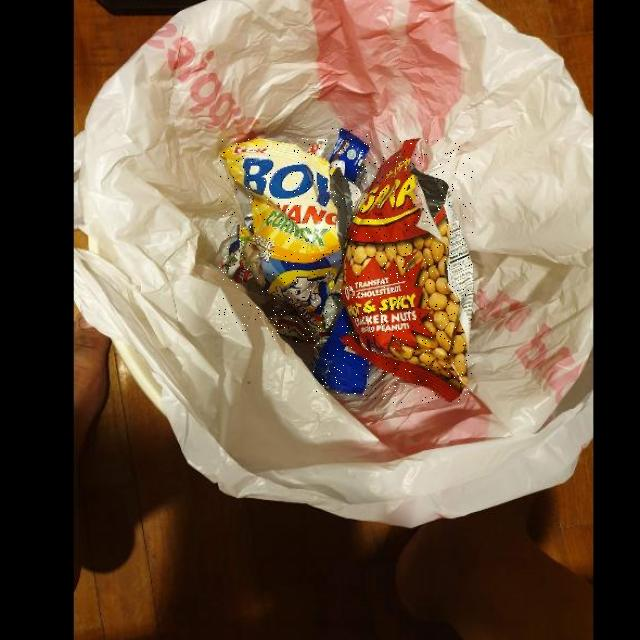wrapper: (341, 138, 473, 403), (219, 139, 352, 333), (313, 307, 368, 395), (328, 128, 369, 184), (268, 313, 325, 343), (221, 248, 249, 283)
